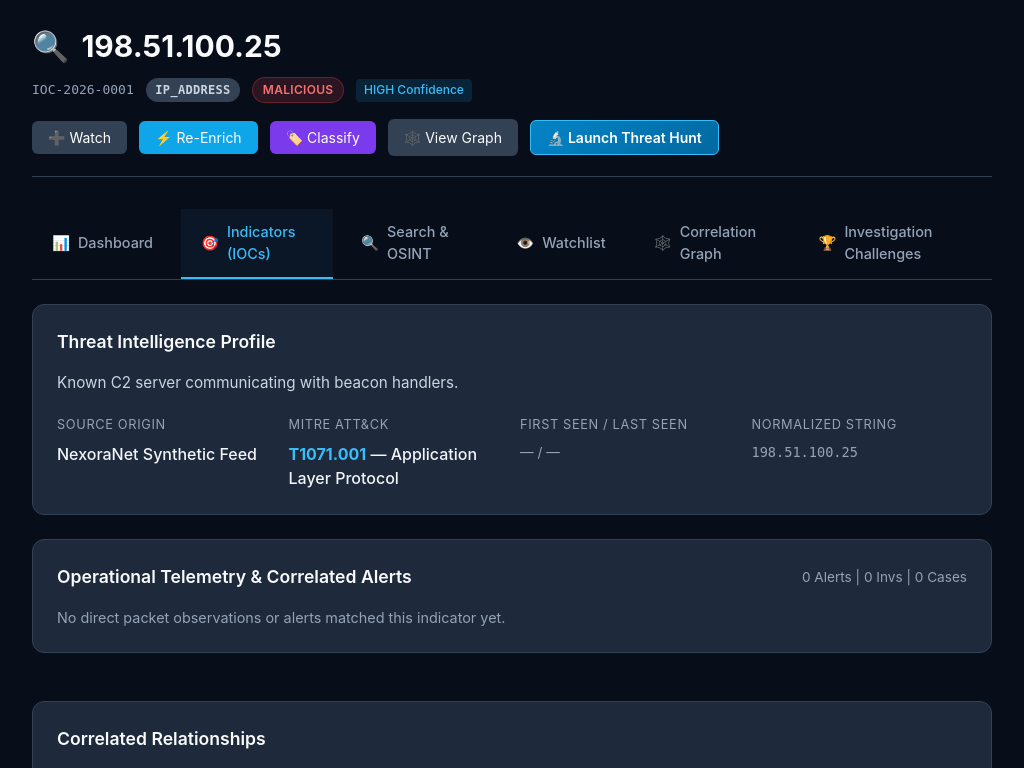
Scenario: Step 13: Threat Intelligence & IOC Investigation UI Tests › renders Indicator Detail page with MITRE ATT&CK, notes, and classification modal
Expected: the heading "🔍 198.51.100.25" is shown, [32,28,282,64]
Expected: the text "T1071.001" is shown, [288,444,366,464]
Note: Click Classify button
Click the button "🏷️ Classify".
click(323, 138)  # box [270,121,376,154]
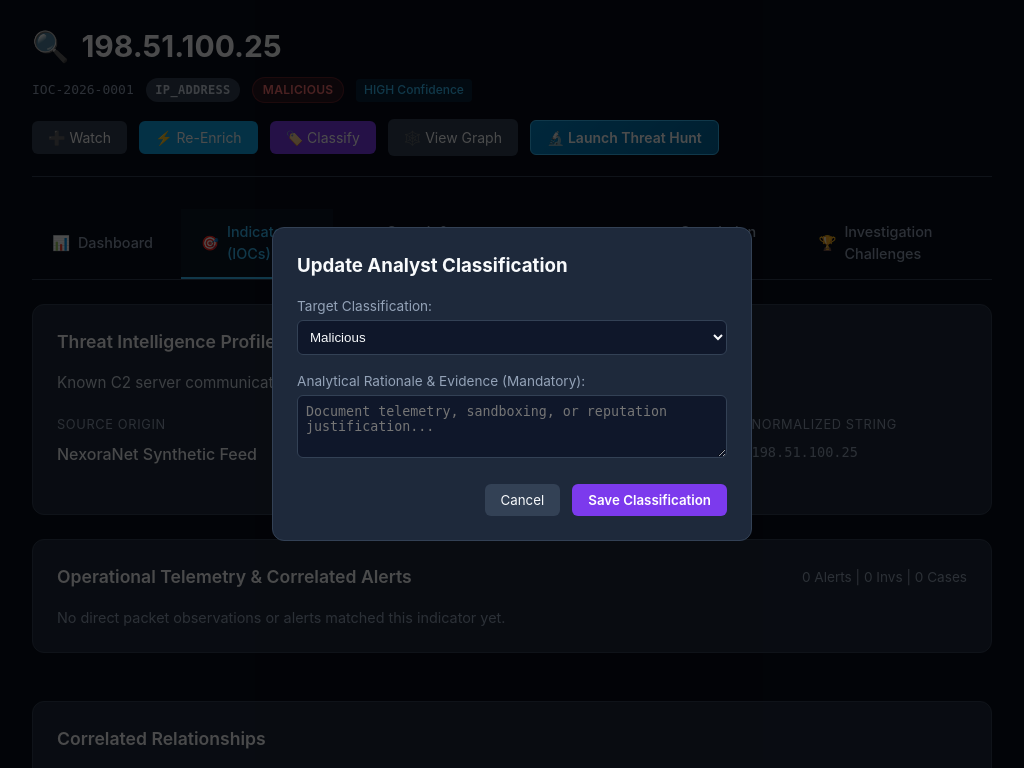
Now the heading "Update Analyst Classification" is shown, box [297,254,568,277]
